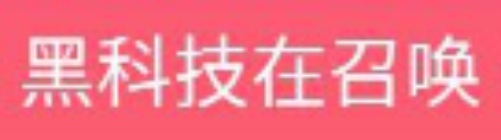TextView: (1, 1, 500, 139)
